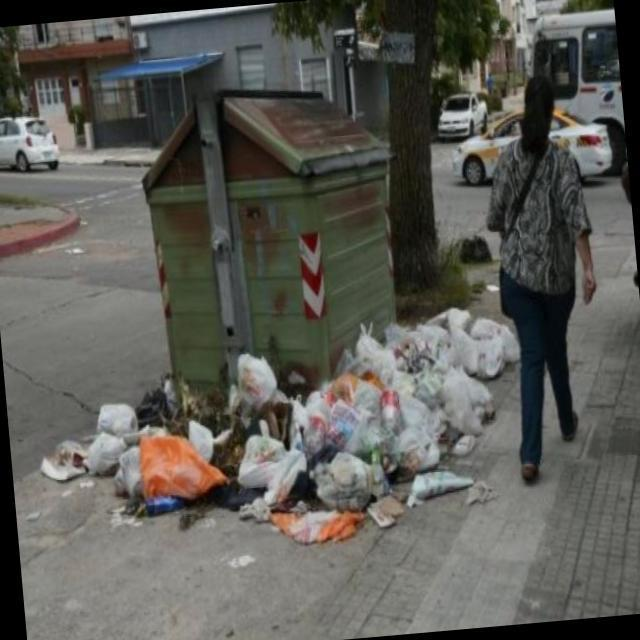garbage: (112, 376, 356, 538), (363, 324, 474, 505), (86, 393, 172, 538), (316, 349, 391, 510), (378, 294, 514, 380), (404, 317, 481, 428), (32, 428, 112, 506), (450, 222, 490, 283)
